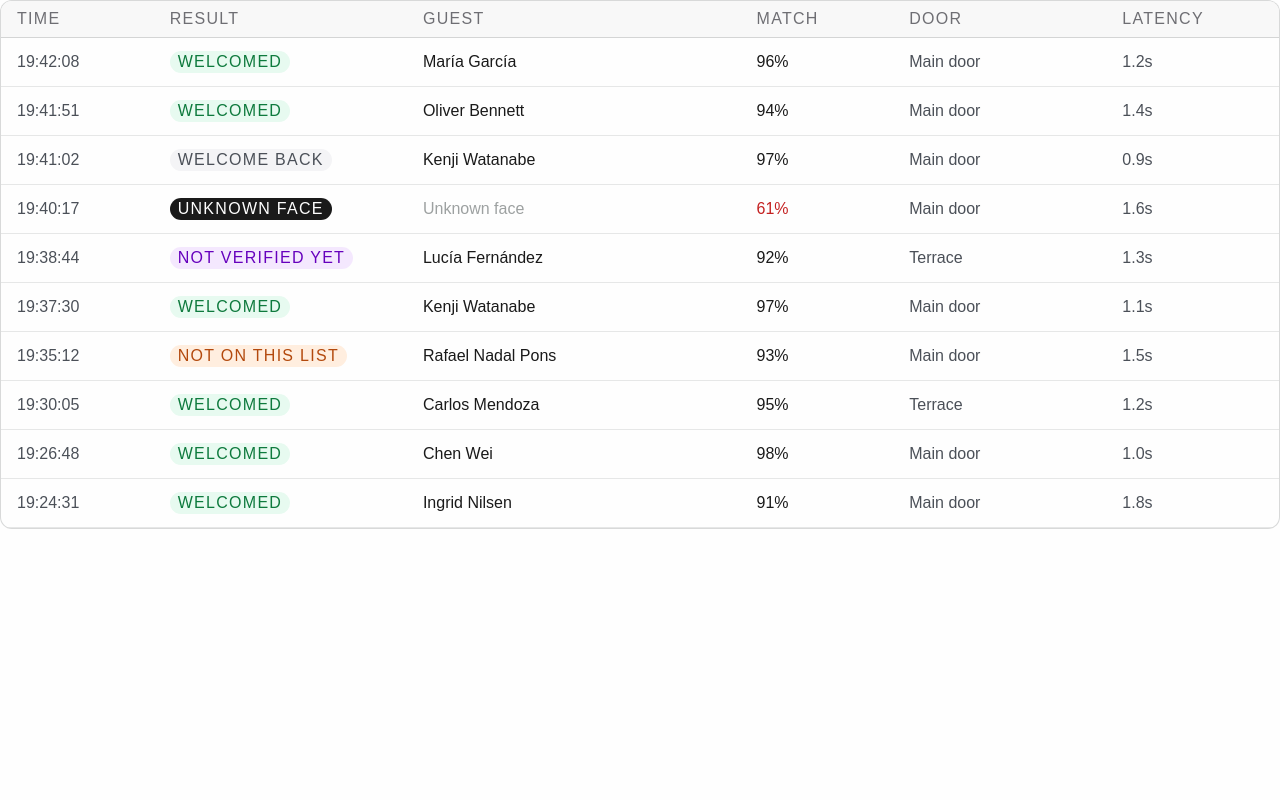
check-in log drawers › a guest row opens the Guests drawer: the row's name at once, the detail from the staff route, one panel
Click the row "19:42:08 Welcomed María García 96% Main door 1.2s".
click(640, 62)  # box [1,38,1279,87]
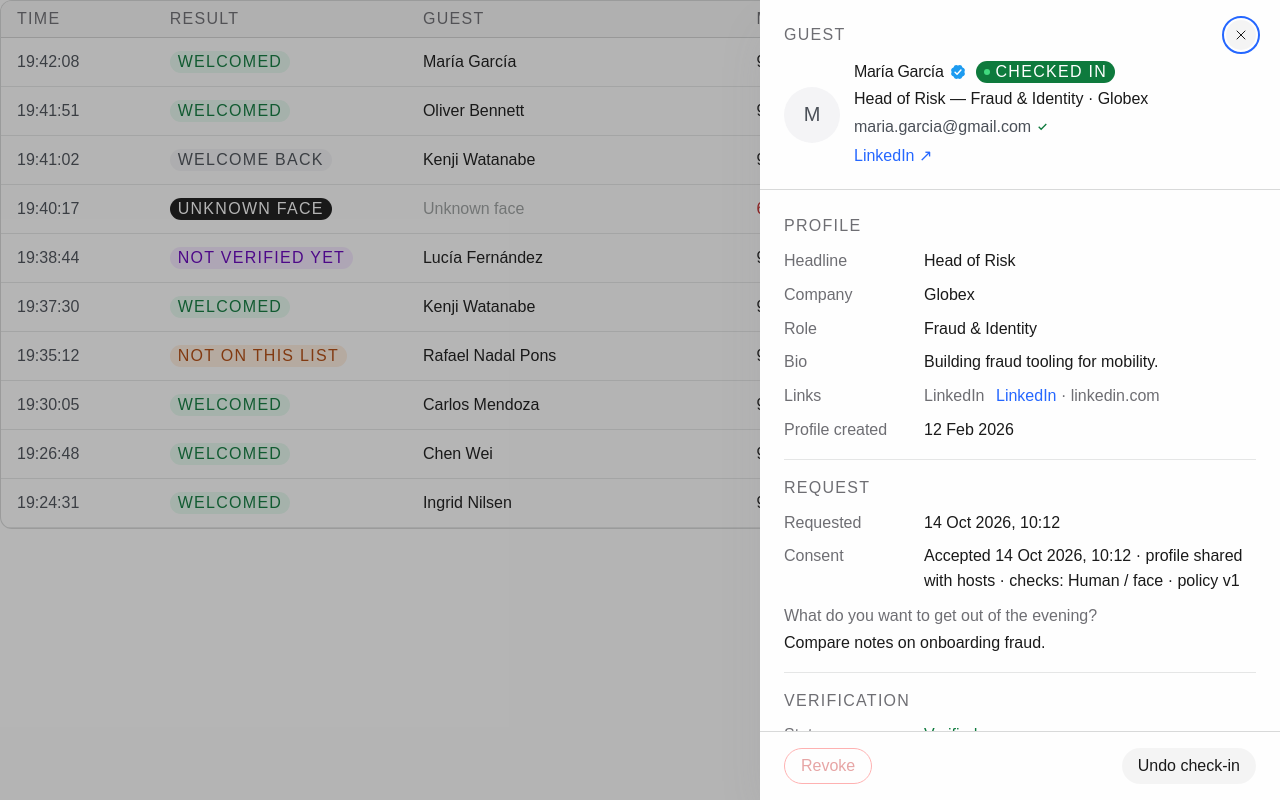
Check: the dialog shows "María García", box [854,63,944,80]
Check: the dialog shows "Profile", box [784,217,861,234]
